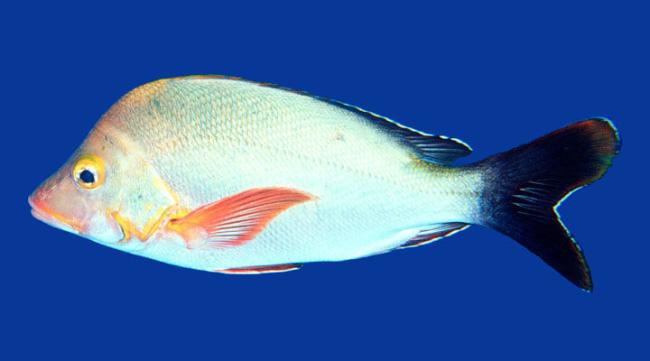fish: (27, 72, 623, 293)
